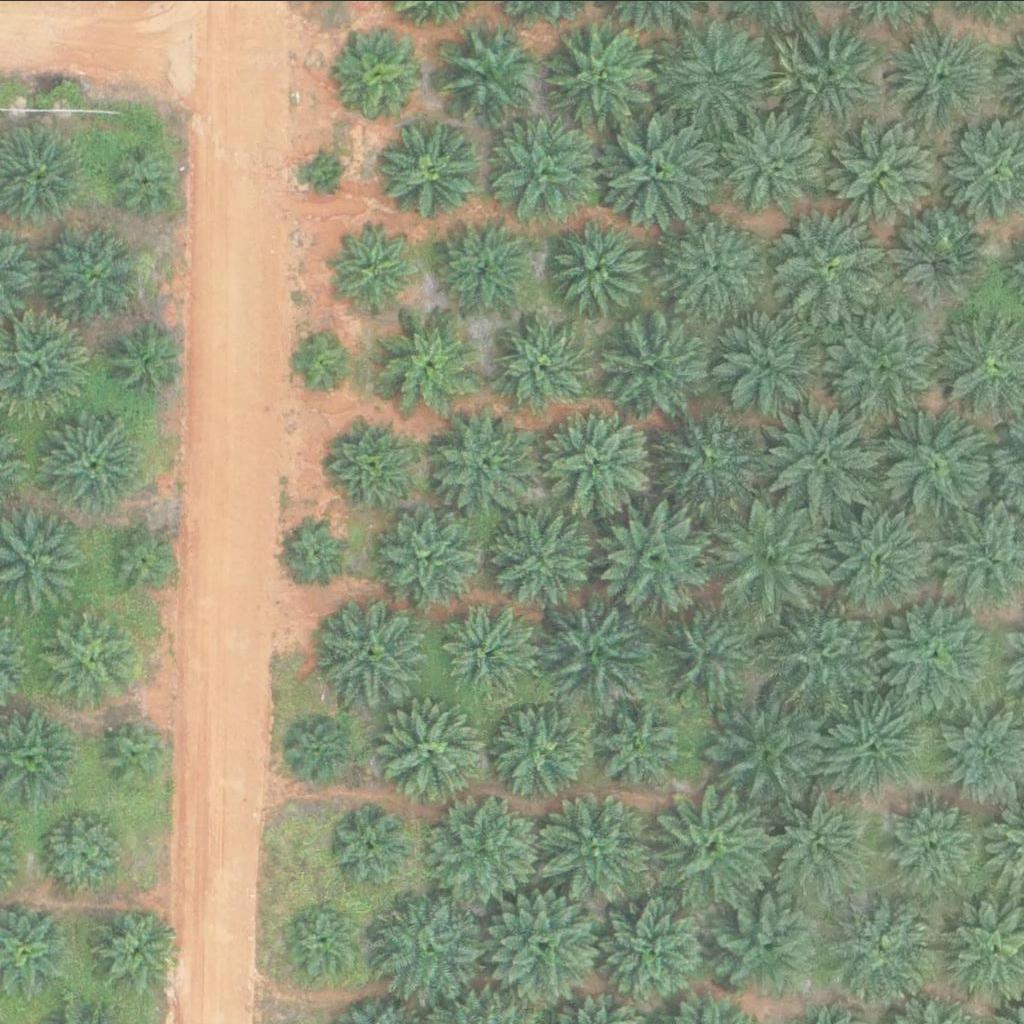Kelapa_Sawit: (593, 884, 719, 1009), (535, 783, 661, 908), (650, 784, 776, 909), (706, 688, 832, 813), (526, 592, 652, 717), (645, 593, 771, 718), (761, 593, 887, 718), (595, 492, 721, 617), (713, 494, 839, 619), (761, 397, 887, 522), (599, 109, 725, 234), (656, 16, 782, 141), (875, 401, 1001, 526), (815, 494, 941, 619), (872, 591, 998, 716), (538, 396, 663, 521), (769, 206, 894, 331), (818, 299, 943, 424), (547, 18, 661, 131), (831, 892, 945, 1005), (717, 892, 830, 1005), (428, 792, 541, 905), (484, 890, 598, 1002), (763, 785, 877, 897), (369, 895, 482, 1007), (482, 113, 595, 225), (718, 110, 831, 222), (767, 20, 880, 132), (880, 18, 993, 130), (43, 224, 144, 324), (41, 411, 142, 511), (40, 607, 141, 707), (378, 700, 479, 800), (493, 701, 594, 801), (319, 598, 420, 698), (440, 604, 541, 704), (376, 507, 477, 607), (488, 507, 589, 607), (433, 412, 534, 512), (660, 404, 761, 504), (380, 310, 481, 410), (495, 315, 596, 415), (609, 314, 710, 414), (713, 310, 814, 410), (432, 218, 533, 318), (548, 216, 649, 316), (664, 219, 765, 319), (836, 122, 937, 222), (887, 210, 988, 310), (84, 900, 184, 1000), (589, 694, 689, 794), (377, 118, 477, 218), (435, 23, 535, 123), (820, 695, 920, 795), (887, 797, 987, 897), (40, 807, 128, 895), (332, 225, 420, 313), (329, 414, 417, 501), (341, 27, 429, 114), (290, 903, 366, 978), (107, 140, 183, 215), (99, 714, 175, 789), (334, 806, 409, 881), (113, 322, 188, 397), (107, 518, 182, 593), (288, 717, 351, 780), (286, 518, 349, 580), (287, 332, 350, 394), (307, 150, 345, 187)
